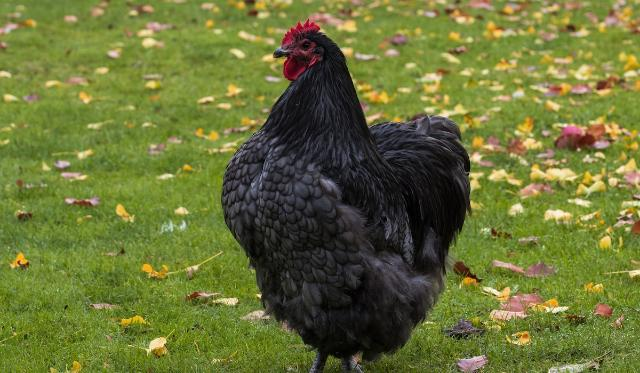Chicken: (220, 17, 471, 373)
